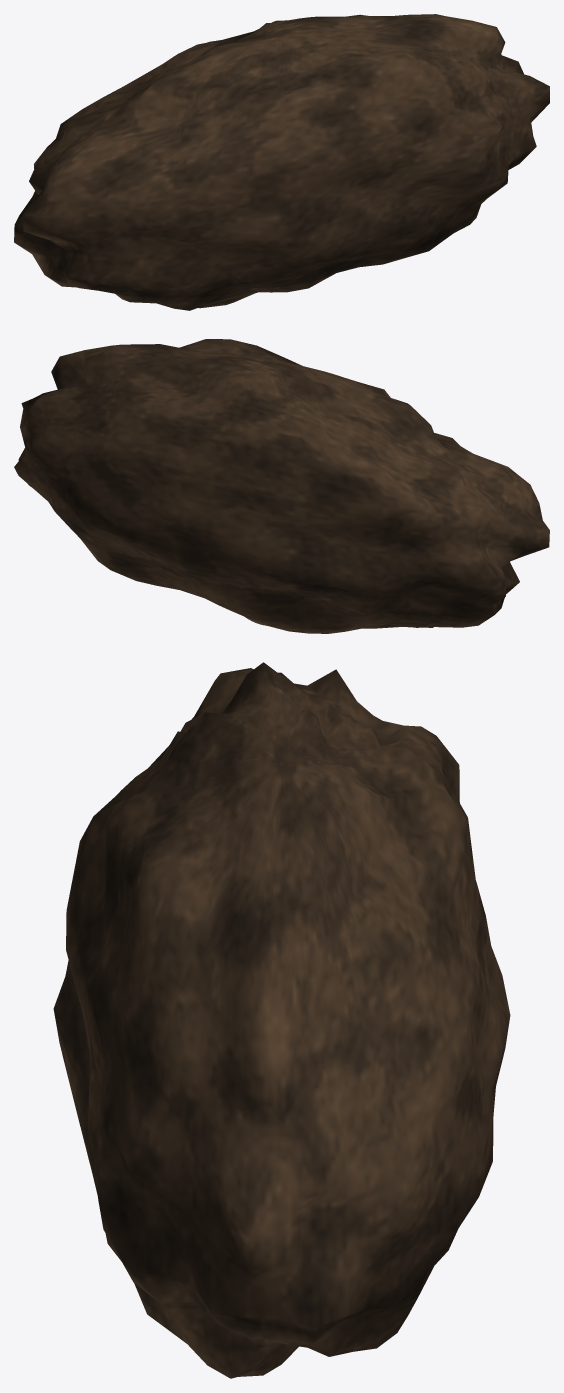
The model's file is asteroide-agulha.glb.
3 renders of one model, top to bottom at view 1: azimuth 30°, elevation 25°; view 2: azimuth 150°, elevation 25°; view 3: azimuth 270°, elevation 25°, orthographic. The views are drawn at different scales.
Parts seen in each view (by area): view 1: Asteroide · agulha; view 2: Asteroide · agulha; view 3: Asteroide · agulha.
Boxes of the visible parts, box(x1,y1,x2,y2) form: Asteroide · agulha: box(14, 14, 549, 310); Asteroide · agulha: box(14, 339, 549, 633); Asteroide · agulha: box(53, 662, 510, 1378).
Bounding box in the file's own units: 2.94 × 1.38 × 1.11.
1 material, 1 textured.
